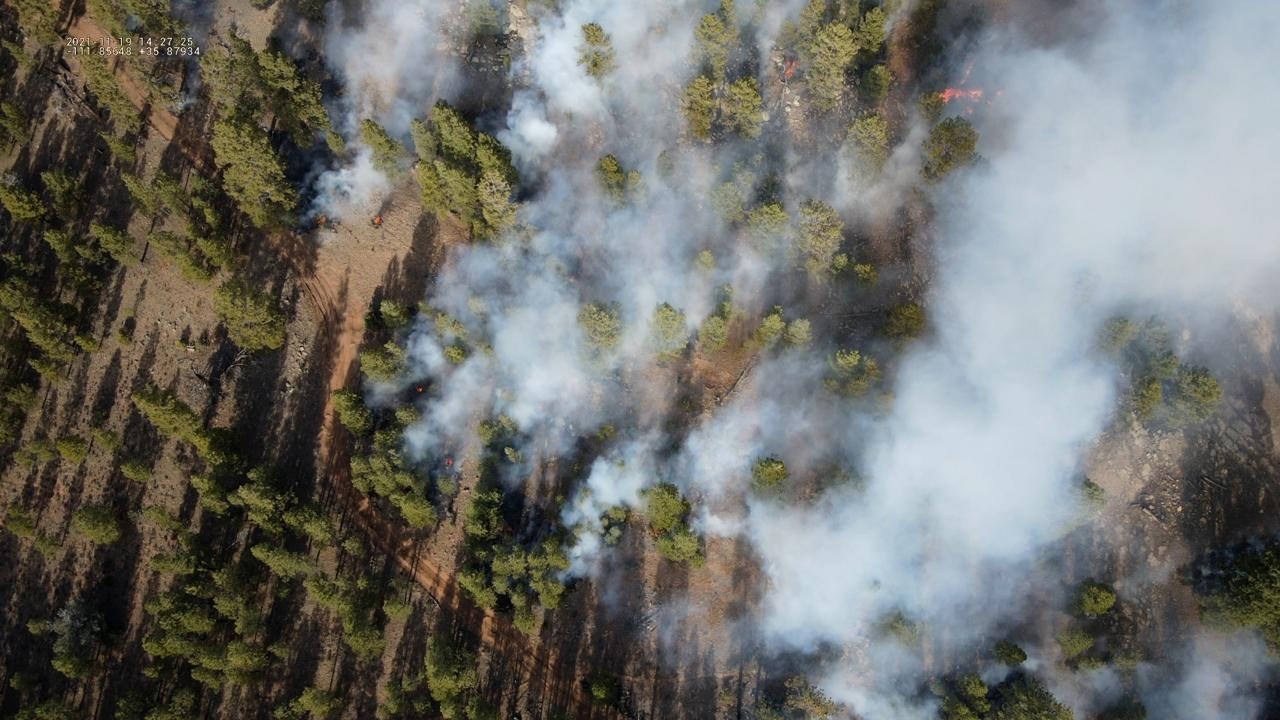fire: (940, 87, 983, 104), (782, 59, 799, 79), (964, 58, 979, 75), (961, 106, 975, 115), (372, 216, 383, 226), (317, 216, 329, 225), (446, 456, 454, 466), (415, 385, 423, 392), (959, 79, 967, 85), (994, 91, 1002, 96)
smoke: (280, 0, 1280, 720), (167, 0, 218, 116), (123, 14, 139, 34)
